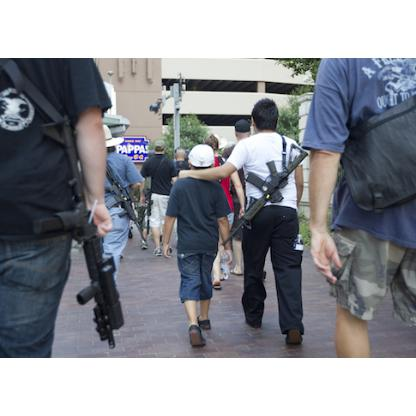gun: (33, 115, 135, 347), (216, 143, 308, 239), (101, 157, 141, 225)
